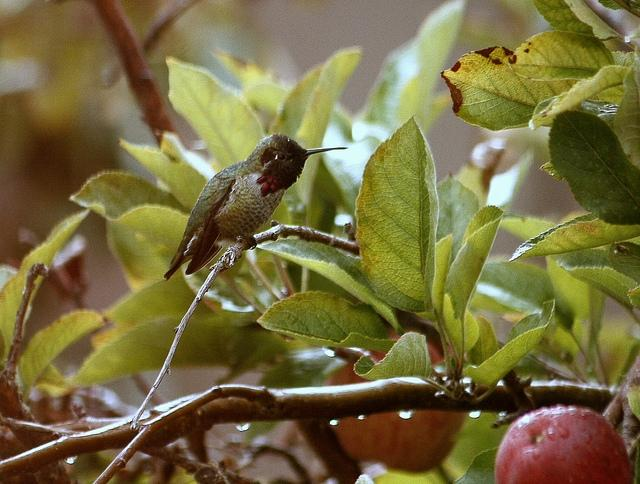apple: (325, 326, 466, 474), (494, 404, 632, 483)
